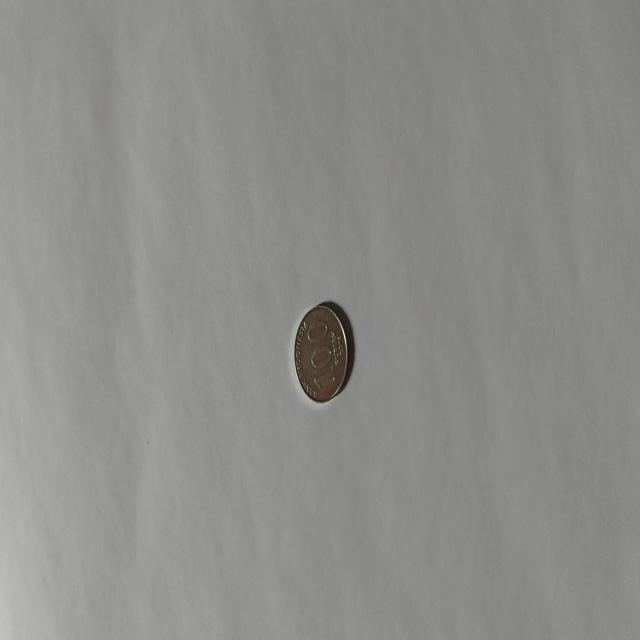seratus rupiah: (293, 302, 348, 404)
